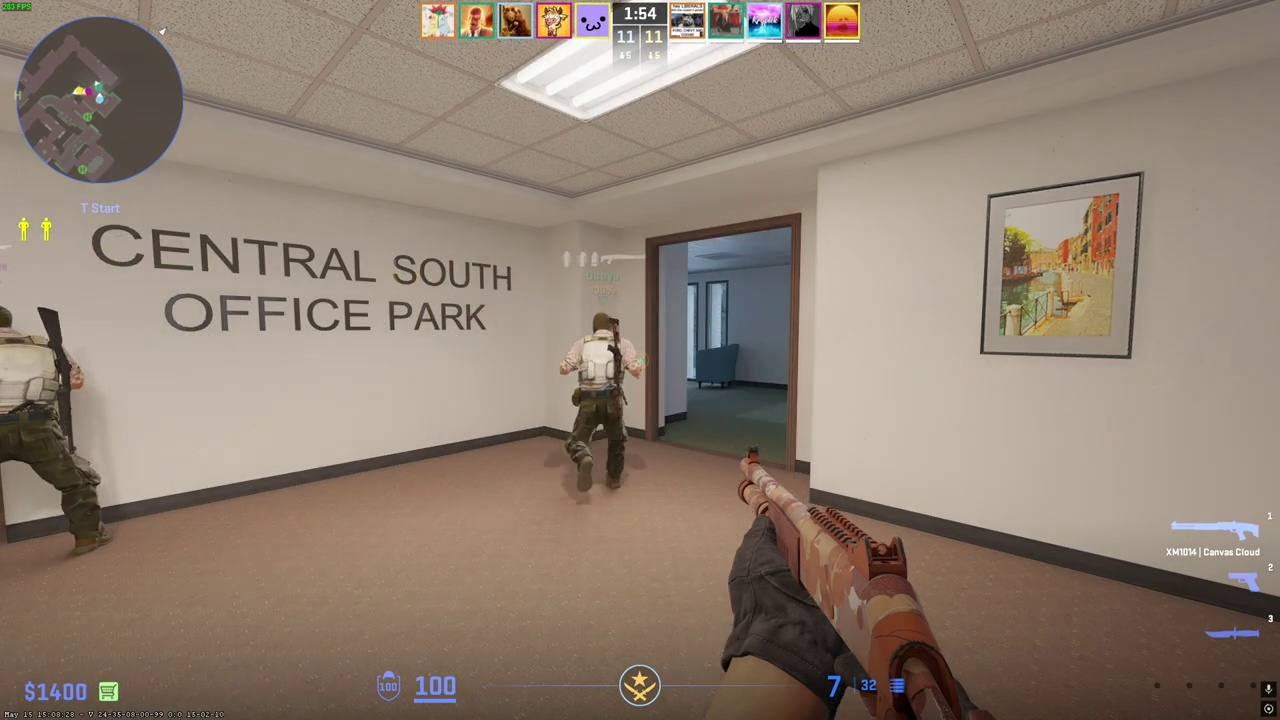Terrorist: (0, 305, 98, 556), (562, 312, 637, 493)
